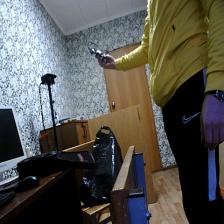drone: (86, 39, 112, 67)
